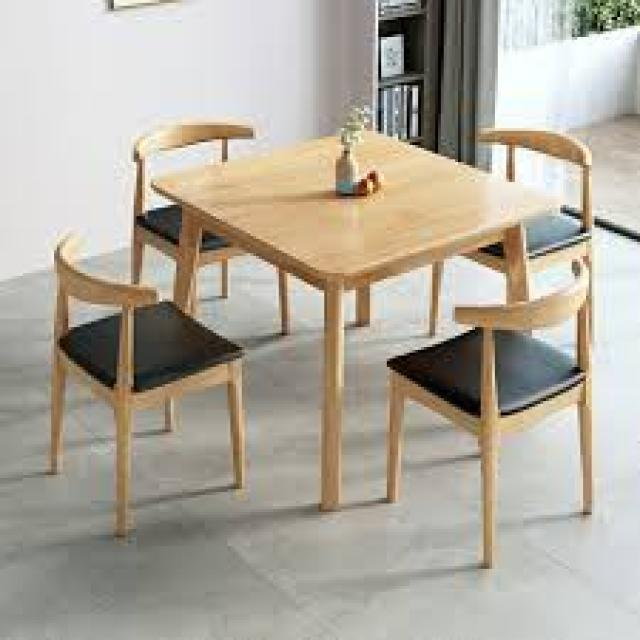table: (45, 96, 609, 570)
